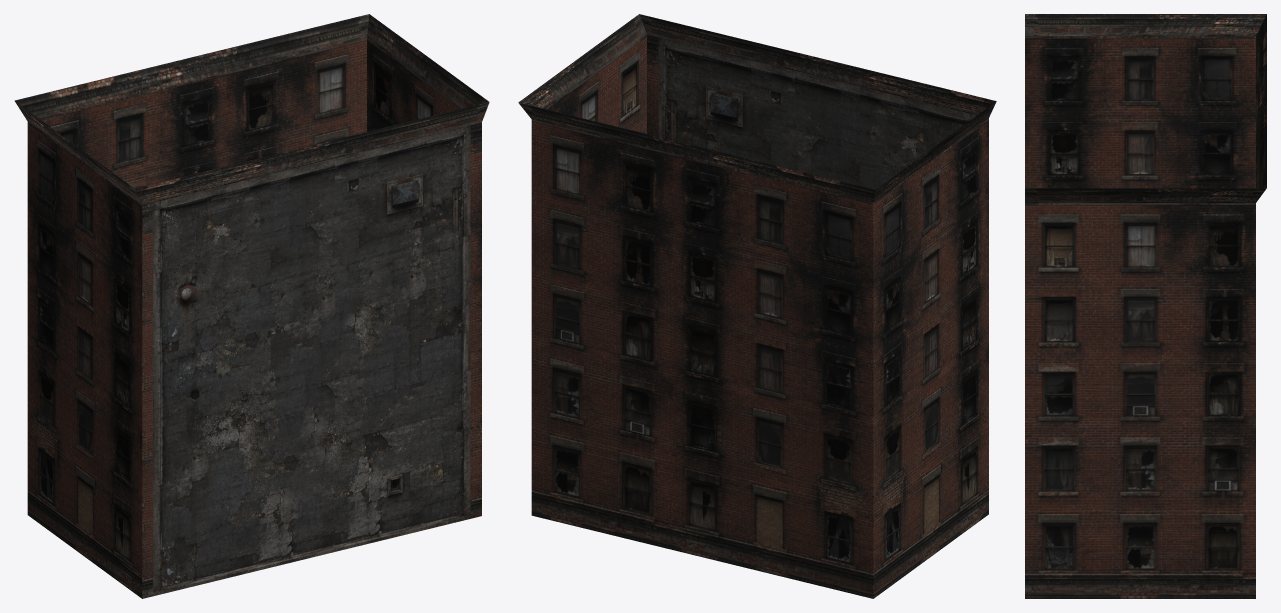
3 renders of one model, left to right at view 1: azimuth 30°, elevation 25°; view 2: azimuth 150°, elevation 25°; view 3: azimuth 270°, elevation 25°, orthographic.
Visible parts, largest first — view 1: B006_Clone; view 2: B006_Clone; view 3: B006_Clone.
Boxes of the visible parts, bbox=[...] form: B006_Clone: bbox=[14, 14, 489, 598]; B006_Clone: bbox=[518, 14, 996, 598]; B006_Clone: bbox=[1025, 14, 1266, 598].
Size of the model in its own units: 5.23 by 5.8 by 3.07.
1 material, 1 textured.
